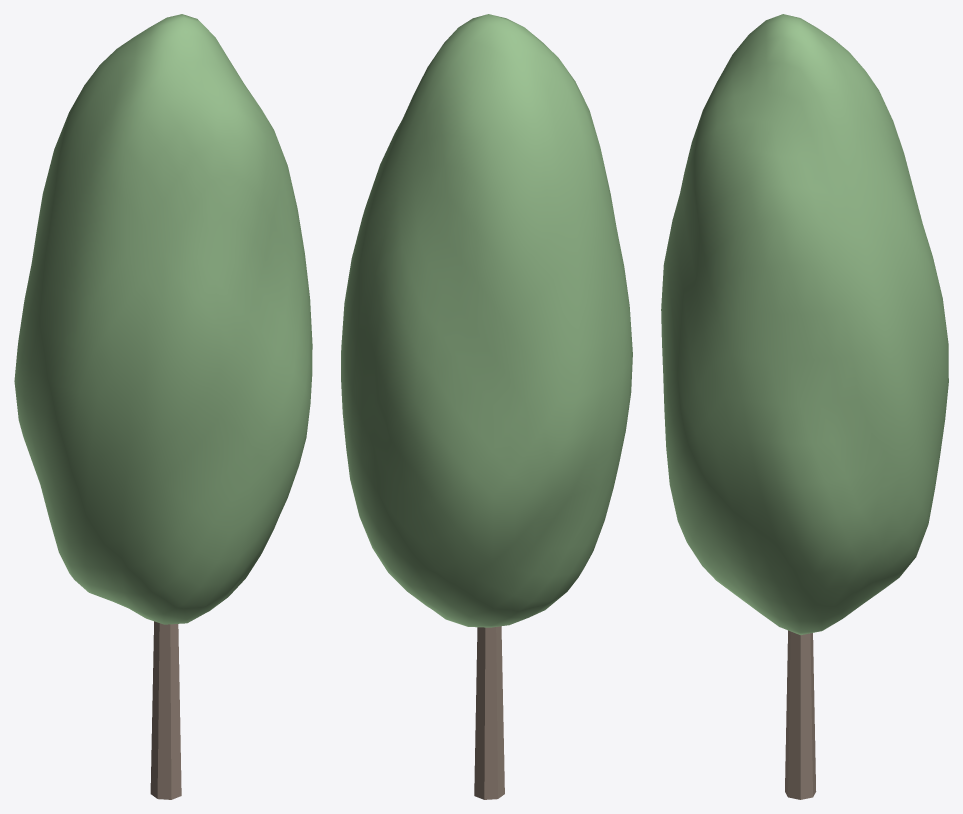
Rendered from tree-broadleaf-c.glb.
The picture shows the model from 3 angles, left to right: view 1: azimuth 30°, elevation 25°; view 2: azimuth 150°, elevation 25°; view 3: azimuth 270°, elevation 25°; orthographic projection.
Parts seen in each view (by area): view 1: tree-broadleaf-c; view 2: tree-broadleaf-c; view 3: tree-broadleaf-c.
Part boxes in pixels (x1,y1,x2,y2): tree-broadleaf-c: [14, 14, 312, 799]; tree-broadleaf-c: [341, 14, 632, 799]; tree-broadleaf-c: [661, 14, 948, 799].
Bounding box in the file's own units: 0.3467 × 1 × 0.3357.
